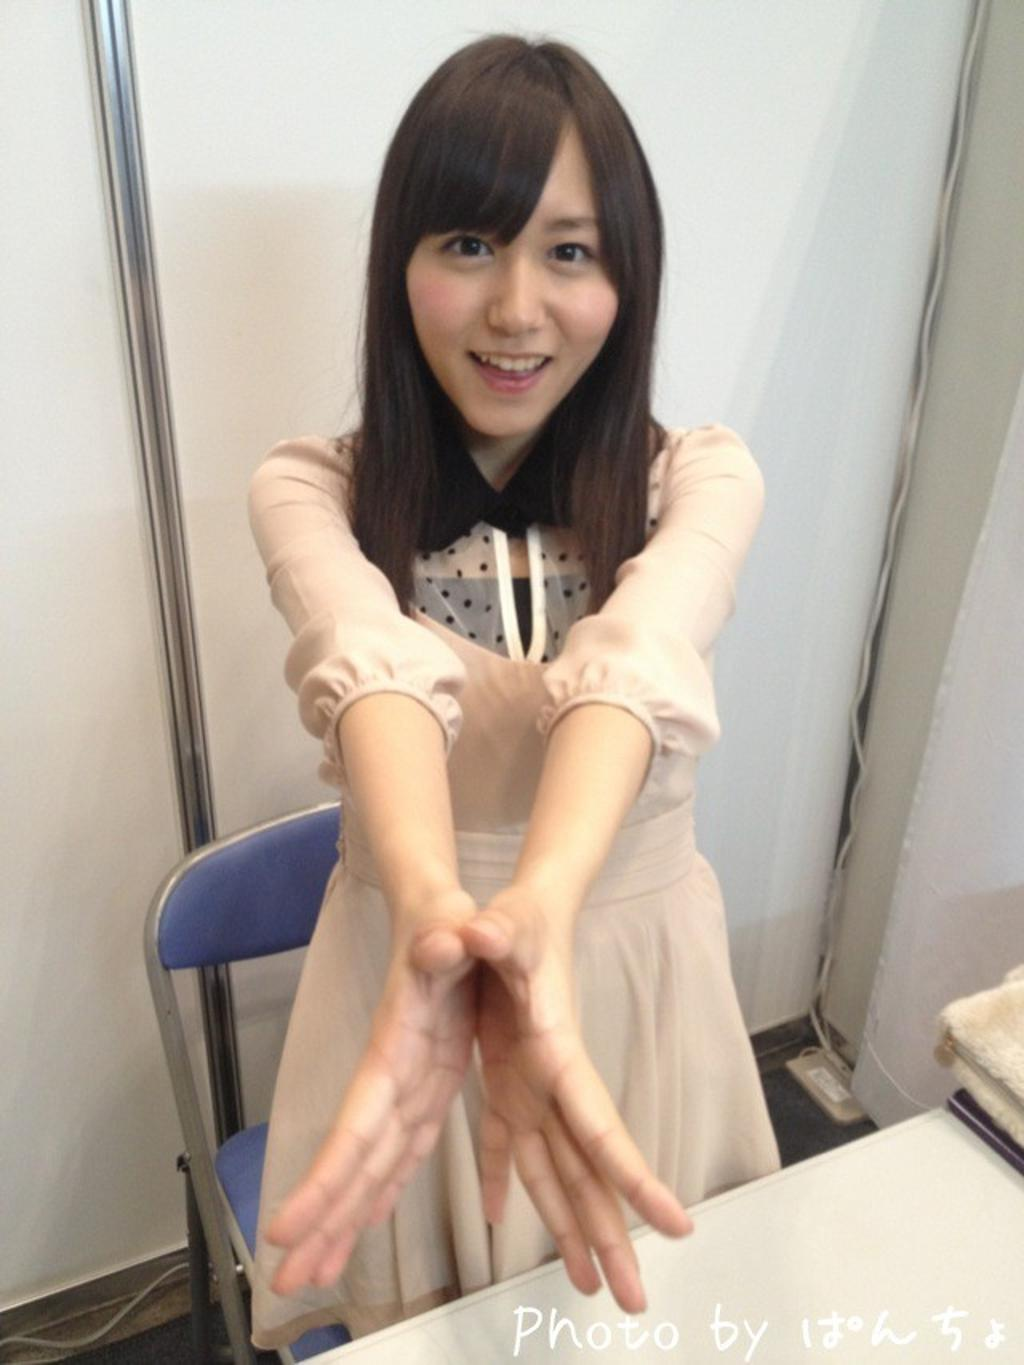face: (408, 128, 627, 437)
